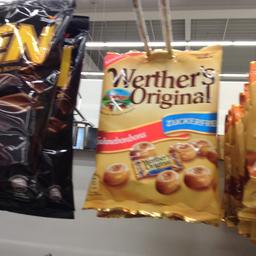candy: (96, 48, 219, 214)
